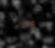four: (18, 19, 22, 27)
one: (24, 19, 28, 28)
six: (29, 20, 33, 28)
